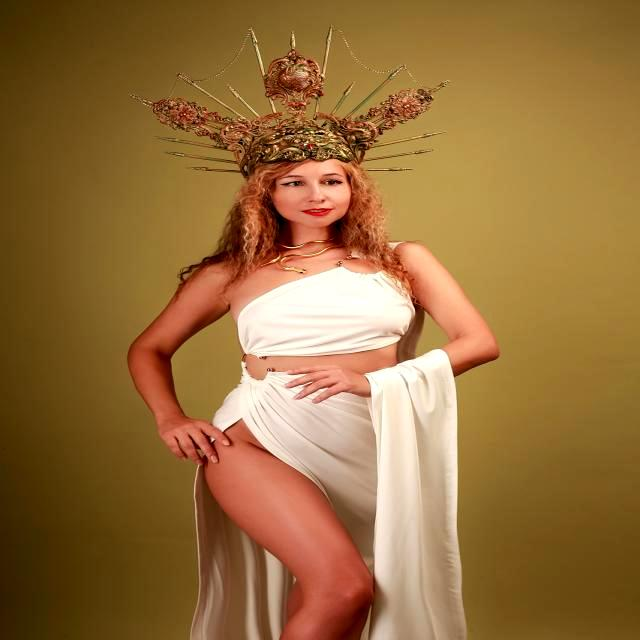no_hard_hat: (131, 26, 449, 178)
person: (128, 158, 499, 640)
